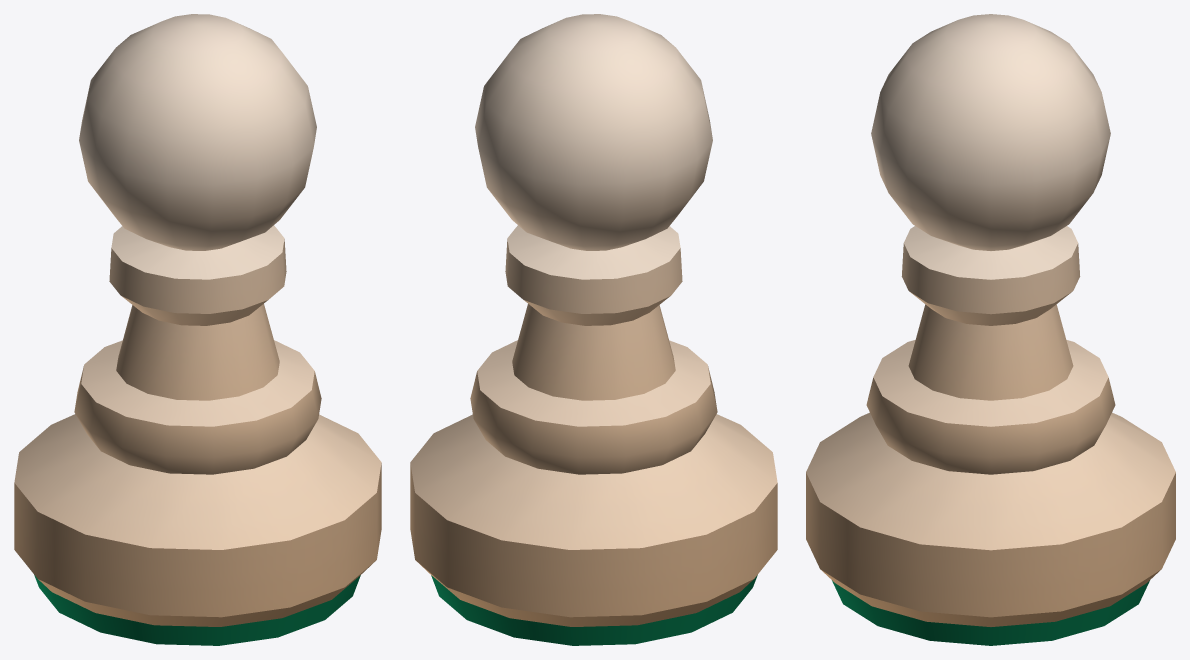
Rendered from chess_white_pawn.obj.
3 views of the same model, side by side, from view 1: azimuth 30°, elevation 25°; view 2: azimuth 150°, elevation 25°; view 3: azimuth 270°, elevation 25° (orthographic).
Parts seen in each view (by area): view 1: chess_white_pawn; view 2: chess_white_pawn; view 3: chess_white_pawn.
Part boxes in pixels (box(x1,y1,x2,y2)): chess_white_pawn: box(14, 14, 381, 645); chess_white_pawn: box(410, 14, 777, 645); chess_white_pawn: box(806, 14, 1175, 645).
Size of the model in its own units: 0.6 by 0.99 by 0.6.
Materials: 1 (1 with a texture image).
